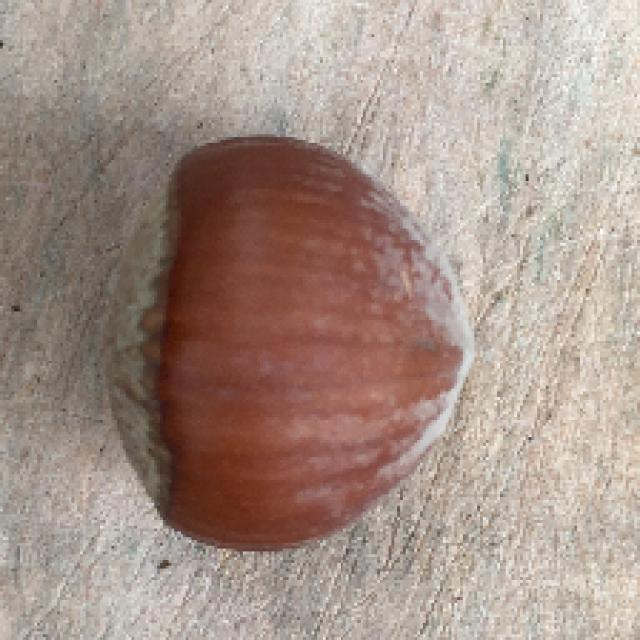QualityHazelnut: (99, 133, 483, 555)
